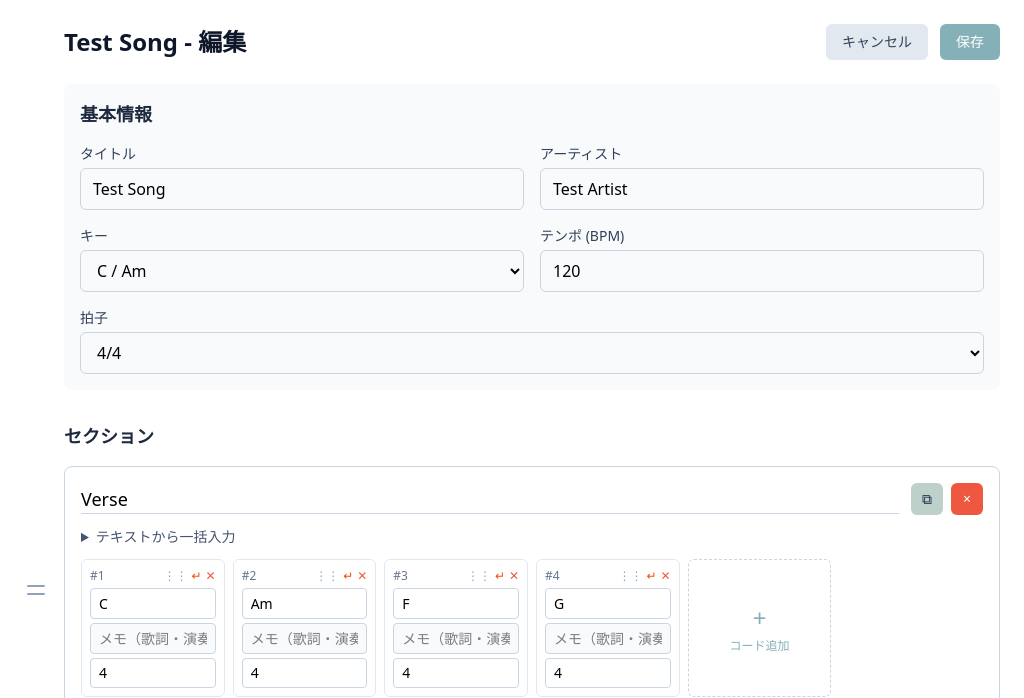
Test: ChordChartEditor › バリデーション機能 › 空の拍数でバリデーションエラーを表示する
The image size is (1024, 698).
//  拍数を空にする
Clear the 1st number field with placeholder "拍数" at (153, 673), box [90,658,216,688]
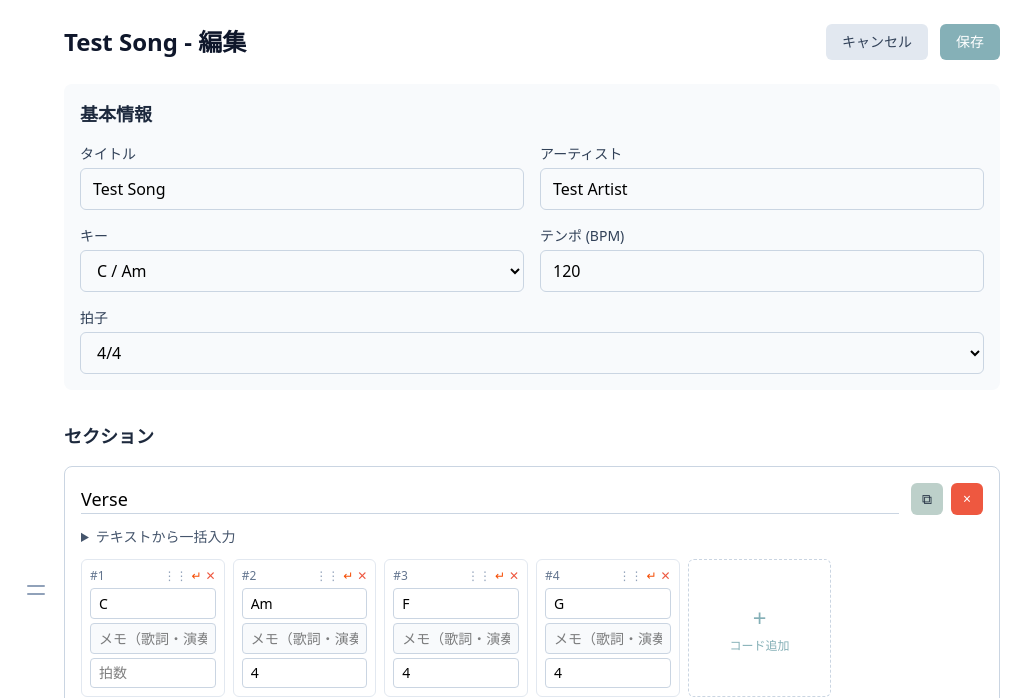
// 保存ボタンをクリック
Click the button with test id "editor-save-button".
click(970, 42)  # box [940,24,1000,60]
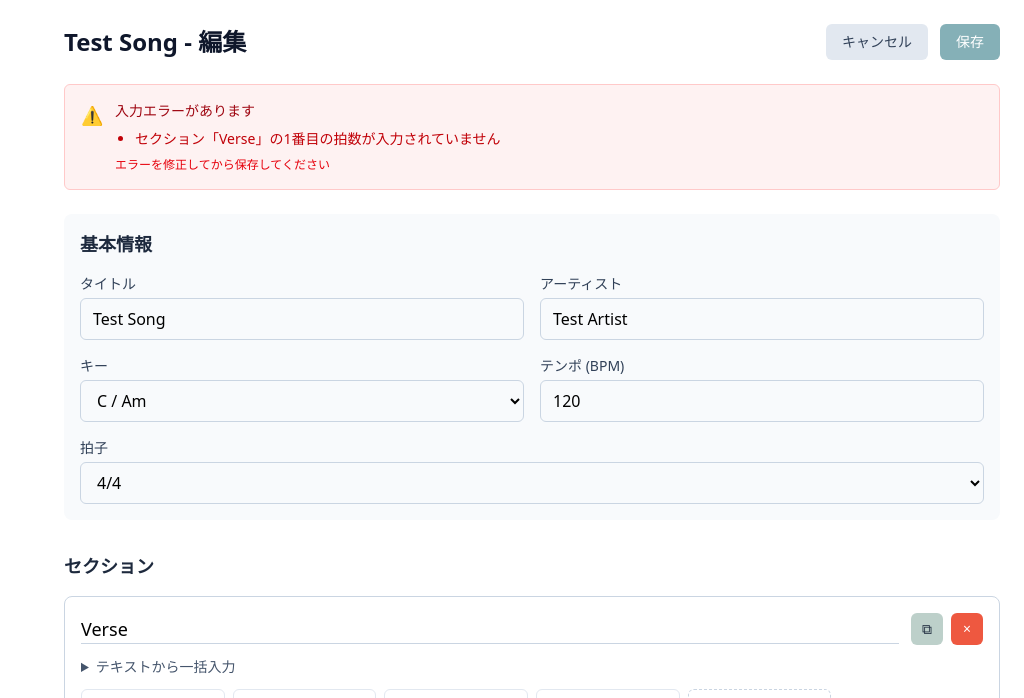
expect the heading "入力エラーがあります" is shown: met, box [115,101,255,120]
expect the list item "セクション「Verse」の1番目の拍数が入力されていません" is shown: met, box [135,129,501,149]
